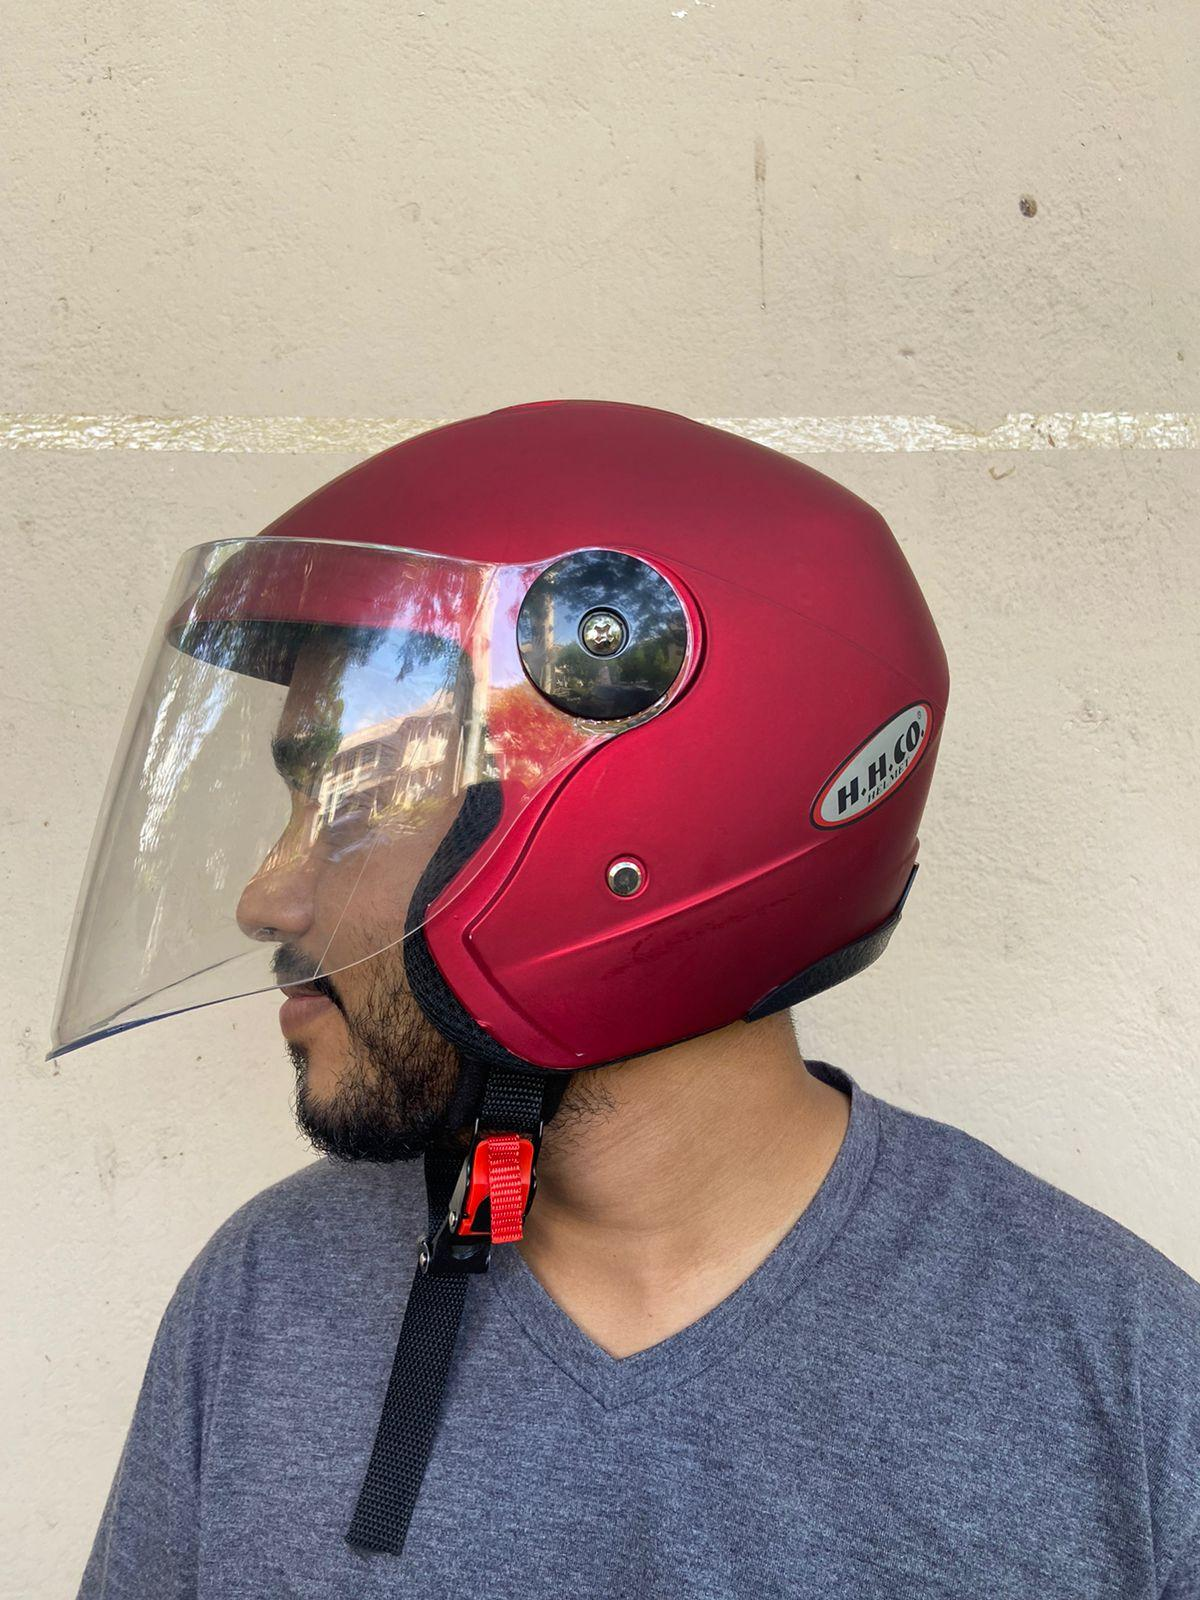helmet: (43, 396, 949, 1071)
